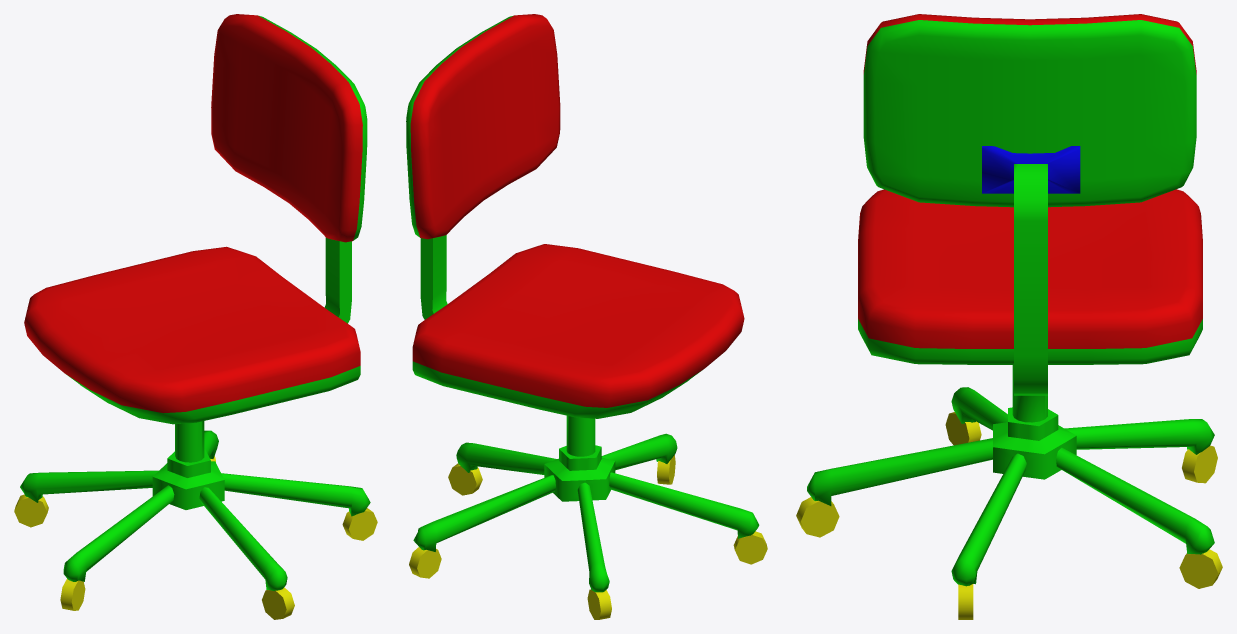
The model's file is Office Chair.fbx.
The picture shows the model from 3 angles, left to right: view 1: azimuth 30°, elevation 25°; view 2: azimuth 150°, elevation 25°; view 3: azimuth 270°, elevation 25°; orthographic projection. The views are drawn at different scales.
Visible parts, largest first — view 1: Cylinder.010; view 2: Cylinder.010; view 3: Cylinder.010.
Boxes of the visible parts, bbox=[...] form: Cylinder.010: bbox=[14, 14, 377, 619]; Cylinder.010: bbox=[406, 14, 767, 619]; Cylinder.010: bbox=[796, 14, 1222, 619].
Size of the model in its own units: 76.25 by 110 by 72.97.
